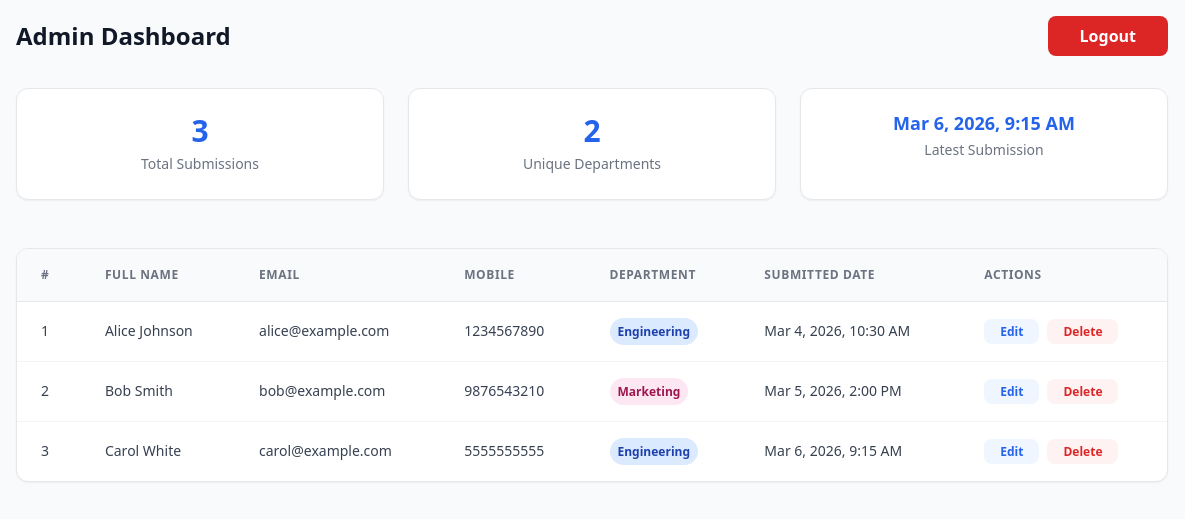
it: AdminDashboard › delete functionality › deletes submission when confirmation is accepted
This screenshot has width=1185, height=519.
Click the button named "Delete Alice Johnson" at (1083, 331), box x1=1048 y1=319 x2=1118 y2=344
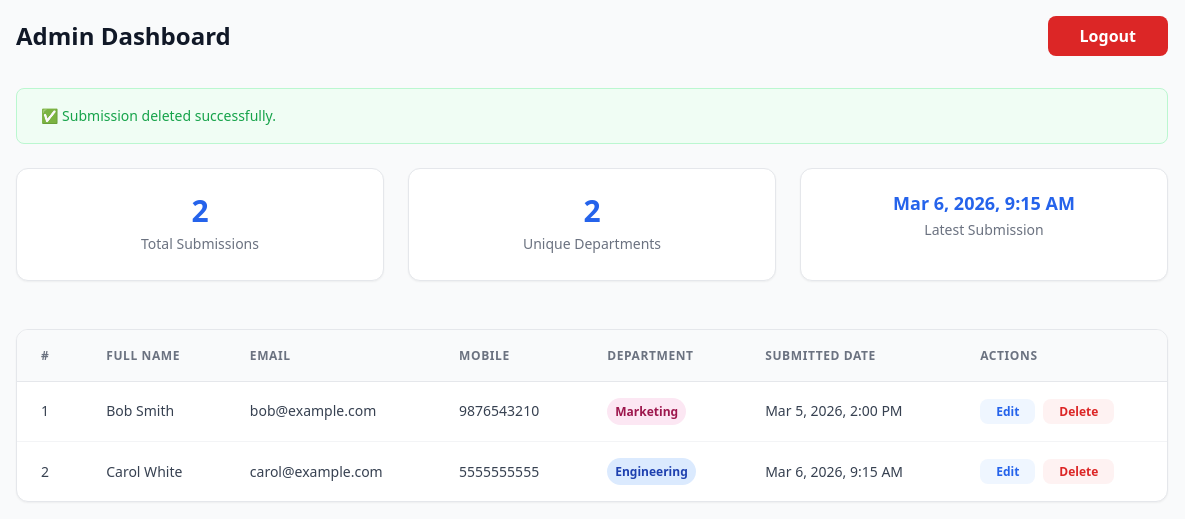
Result: the text "Alice Johnson" is gone
Result: the text "✅ Submission deleted successfully." is shown at x1=16 y1=88 x2=1168 y2=144
